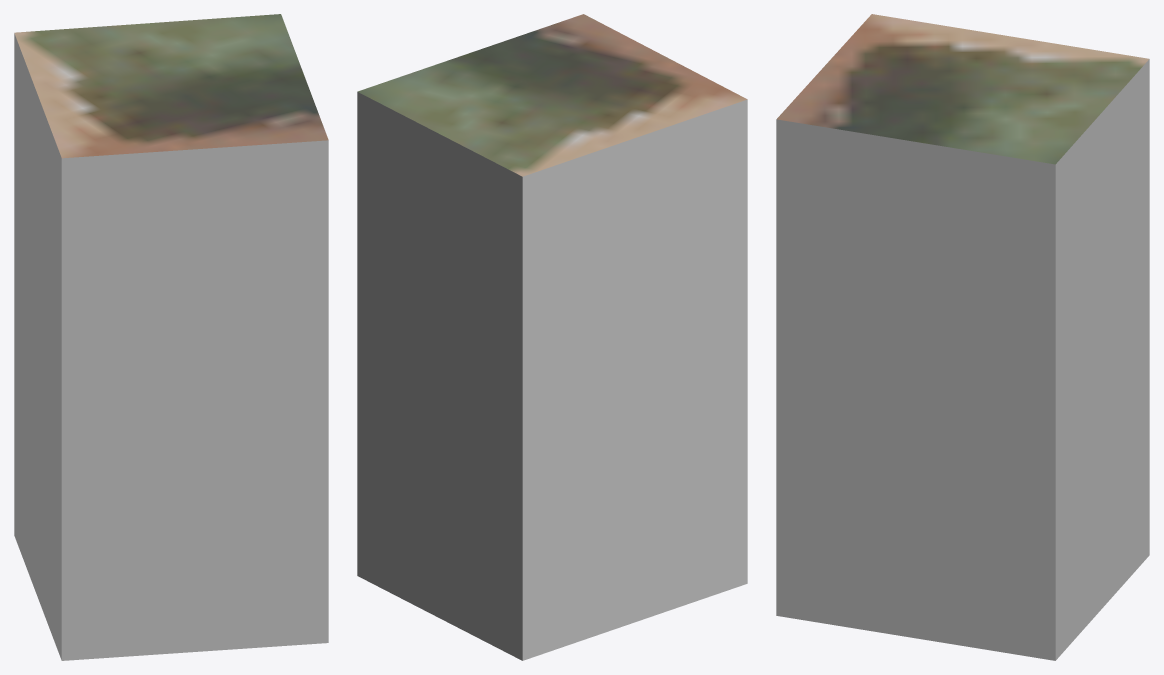
The model's file is DEBW_0010007THXg.gltf.
The picture shows the model from 3 angles, left to right: view 1: azimuth 30°, elevation 25°; view 2: azimuth 150°, elevation 25°; view 3: azimuth 270°, elevation 25°; orthographic projection. The views are drawn at different scales.
Visible parts, largest first — view 1: Z_UP; view 2: Z_UP; view 3: Z_UP.
Part boxes in pixels (x1,y1,x2,y2): Z_UP: (14, 14, 328, 660); Z_UP: (357, 14, 747, 660); Z_UP: (776, 14, 1149, 660).
Bounding box in the file's own units: 5 × 7.69 × 5.24.
Materials: 2 (1 with a texture image).
